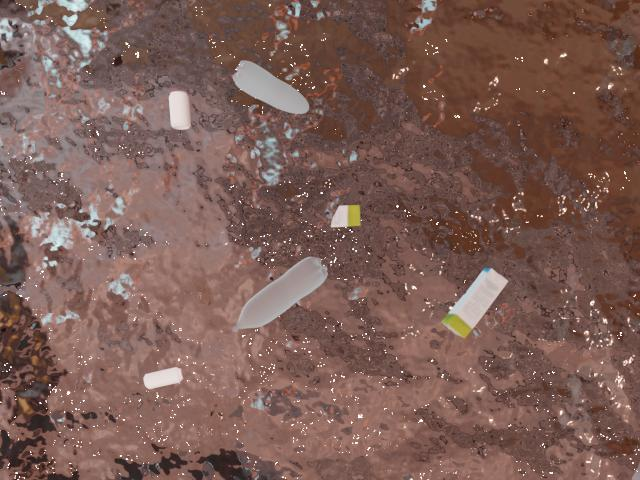Metal: (129, 356, 189, 420), (159, 81, 201, 142)
Plastic: (230, 245, 337, 350), (230, 44, 317, 129)
Trash: (440, 259, 512, 347), (316, 191, 373, 240)
